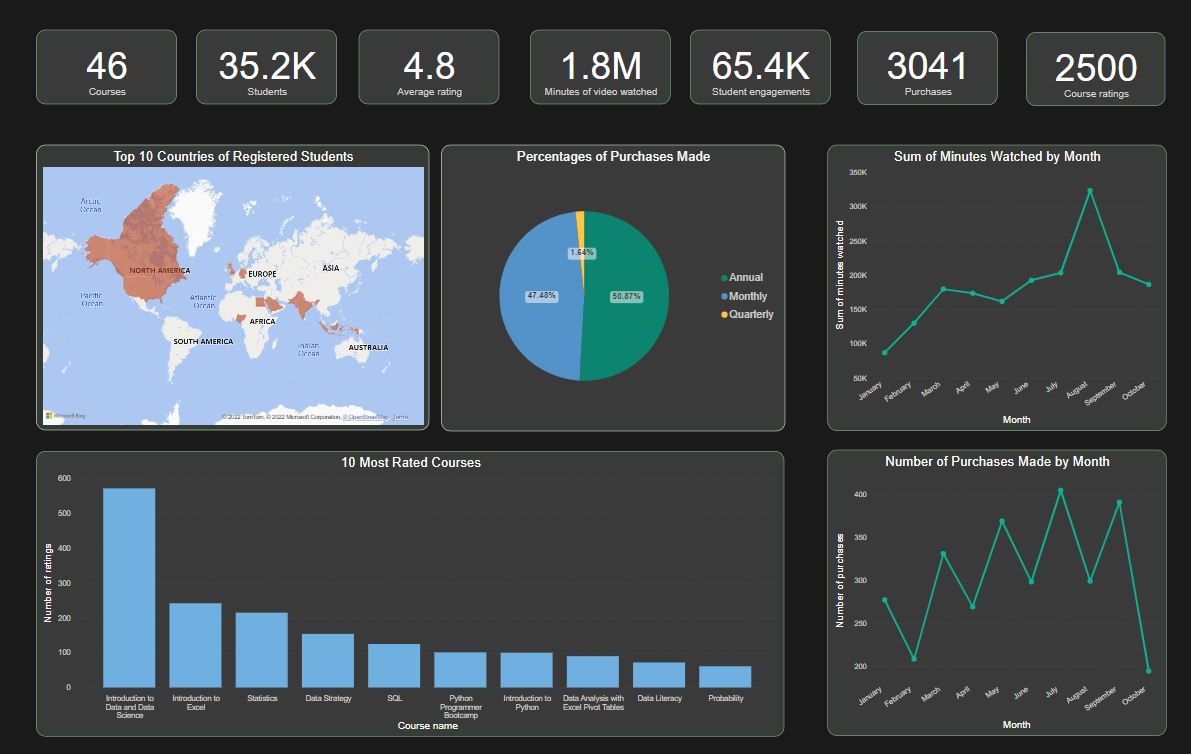

The dashboard page shown, as its layout file describes it:
{"tool":"powerbi","page":{"name":"Page 1","canvas":[1980,1420],"ordinal":0},"visuals":[{"type":"filledMap","fields":{"Category":["365_student_info.student_country"]},"box":[98.6,286.3,629,457],"z":0},{"type":"card","fields":{"Values":["CountNonNull(365_course_info.course_id)"]},"box":[97.6,101.2,225,119],"z":1000},{"type":"card","fields":{"Values":["CountNonNull(365_student_info.student_id)"]},"box":[353.5,101.2,224.9,119],"z":2000},{"type":"card","fields":{"Values":["Avg(365_course_ratings.course_rating)"]},"box":[614.1,101.2,224.9,119],"z":3000},{"type":"card","fields":{"Values":["Sum(365_student_learning.minutes_watched)"]},"box":[887.8,101.2,224.9,119],"z":4000},{"type":"card","fields":{"Values":["CountNonNull(365_student_engagement.engagement_id)"]},"box":[1143.7,101.2,224.9,119],"z":5000},{"type":"lineChart","title":"Sum of Minutes Watched by Month","fields":{"Category":["365_student_learning.date_watched.Variation.Date Hierarchy.Month"],"Y":["Sum(365_student_learning.minutes_watched)"]},"box":[1363.7,286.3,542.2,457.7],"z":6000},{"type":"lineChart","title":"Number of Purchases Made by Month","fields":{"Category":["365_student_purchases.date_purchased.Variation.Date Hierarchy.Month"],"Y":["CountNonNull(365_student_purchases.purchase_id)"]},"box":[1363.7,774.5,542.2,457.7],"z":7000},{"type":"card","fields":{"Values":["CountNonNull(365_student_purchases.purchase_id)"]},"box":[1412,104,224,118],"z":7001},{"type":"clusteredColumnChart","title":"10 Most Rated Courses","fields":{"Category":["365_course_ratings.course_title"],"Y":["CountNonNull(365_course_ratings.course_title)"]},"box":[98.6,776.9,1197,457],"z":7002},{"type":"card","fields":{"Values":["CountNonNull(365_course_ratings.course_id)"]},"box":[1682.5,105,222.5,117.5],"z":7003},{"type":"pieChart","title":"Percentages of Purchases Made","fields":{"Y":["CountNonNull(365_student_purchases.purchase_type)"],"Category":["365_student_purchases.purchase_type"]},"box":[746,286,550,458],"z":7004}]}

Visuals, with their boxes on the page's 1980x1420 design canvas (x1, y1, x2, y2). These are canvas units, not pixel positions in the 1191x754 screenshot, which may show the page scaled, cropped or inside an application window:
filledMap - 365_student_info.student_country: 99, 286, 728, 743
card - CountNonNull(365_course_info.course_id): 98, 101, 323, 220
card - CountNonNull(365_student_info.student_id): 354, 101, 578, 220
card - Avg(365_course_ratings.course_rating): 614, 101, 839, 220
card - Sum(365_student_learning.minutes_watched): 888, 101, 1113, 220
card - CountNonNull(365_student_engagement.engagement_id): 1144, 101, 1369, 220
"Sum of Minutes Watched by Month" lineChart: 1364, 286, 1906, 744
"Number of Purchases Made by Month" lineChart: 1364, 774, 1906, 1232
card - CountNonNull(365_student_purchases.purchase_id): 1412, 104, 1636, 222
"10 Most Rated Courses" clusteredColumnChart: 99, 777, 1296, 1234
card - CountNonNull(365_course_ratings.course_id): 1682, 105, 1905, 222
"Percentages of Purchases Made" pieChart: 746, 286, 1296, 744
